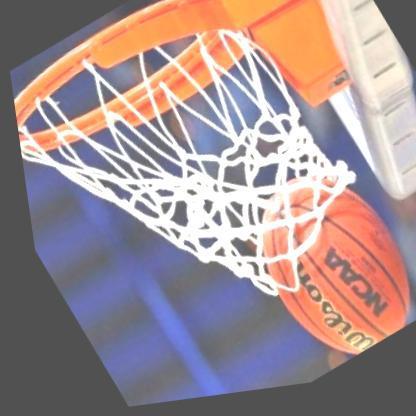basketball: (210, 141, 416, 391)
rim: (0, 0, 398, 355)
